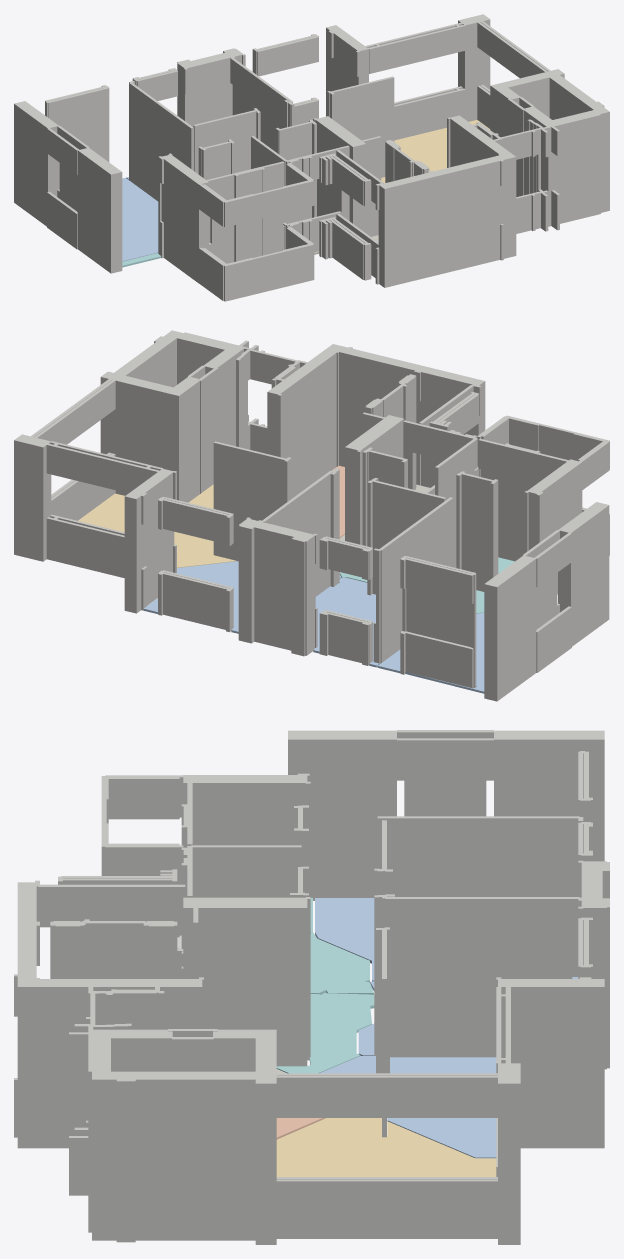
The picture shows the model from 3 angles, top to bottom: view 1: azimuth 30°, elevation 25°; view 2: azimuth 150°, elevation 25°; view 3: azimuth 270°, elevation 25°; orthographic projection. The views are drawn at different scales.
Parts seen in each view (by area): view 1: walls, room:bedroom:9, room:living:2; view 2: walls, room:living:2, room:bedroom:0, room:bedroom:1, room:bedroom:9; view 3: walls, room:living:2, room:bedroom:1, room:bath:3, room:bedroom:9, room:bath:8.
Boxes of the visible parts, bbox=[...] form: walls: bbox=[14, 14, 609, 301]; room:bedroom:9: bbox=[122, 177, 158, 261]; room:living:2: bbox=[381, 120, 490, 183]; walls: bbox=[14, 330, 609, 701]; room:living:2: bbox=[78, 484, 236, 567]; room:bedroom:0: bbox=[313, 577, 379, 667]; room:bedroom:1: bbox=[143, 561, 341, 633]; room:bedroom:9: bbox=[377, 613, 484, 693]; walls: bbox=[14, 730, 609, 1244]; room:living:2: bbox=[276, 1118, 496, 1176]; room:bedroom:1: bbox=[320, 1056, 496, 1158]; room:bath:3: bbox=[276, 993, 374, 1073]; room:bedroom:9: bbox=[315, 898, 374, 990]; room:bath:8: bbox=[310, 898, 373, 994].
Bounding box in the file's own units: 13.16 × 2.8 × 9.38.
